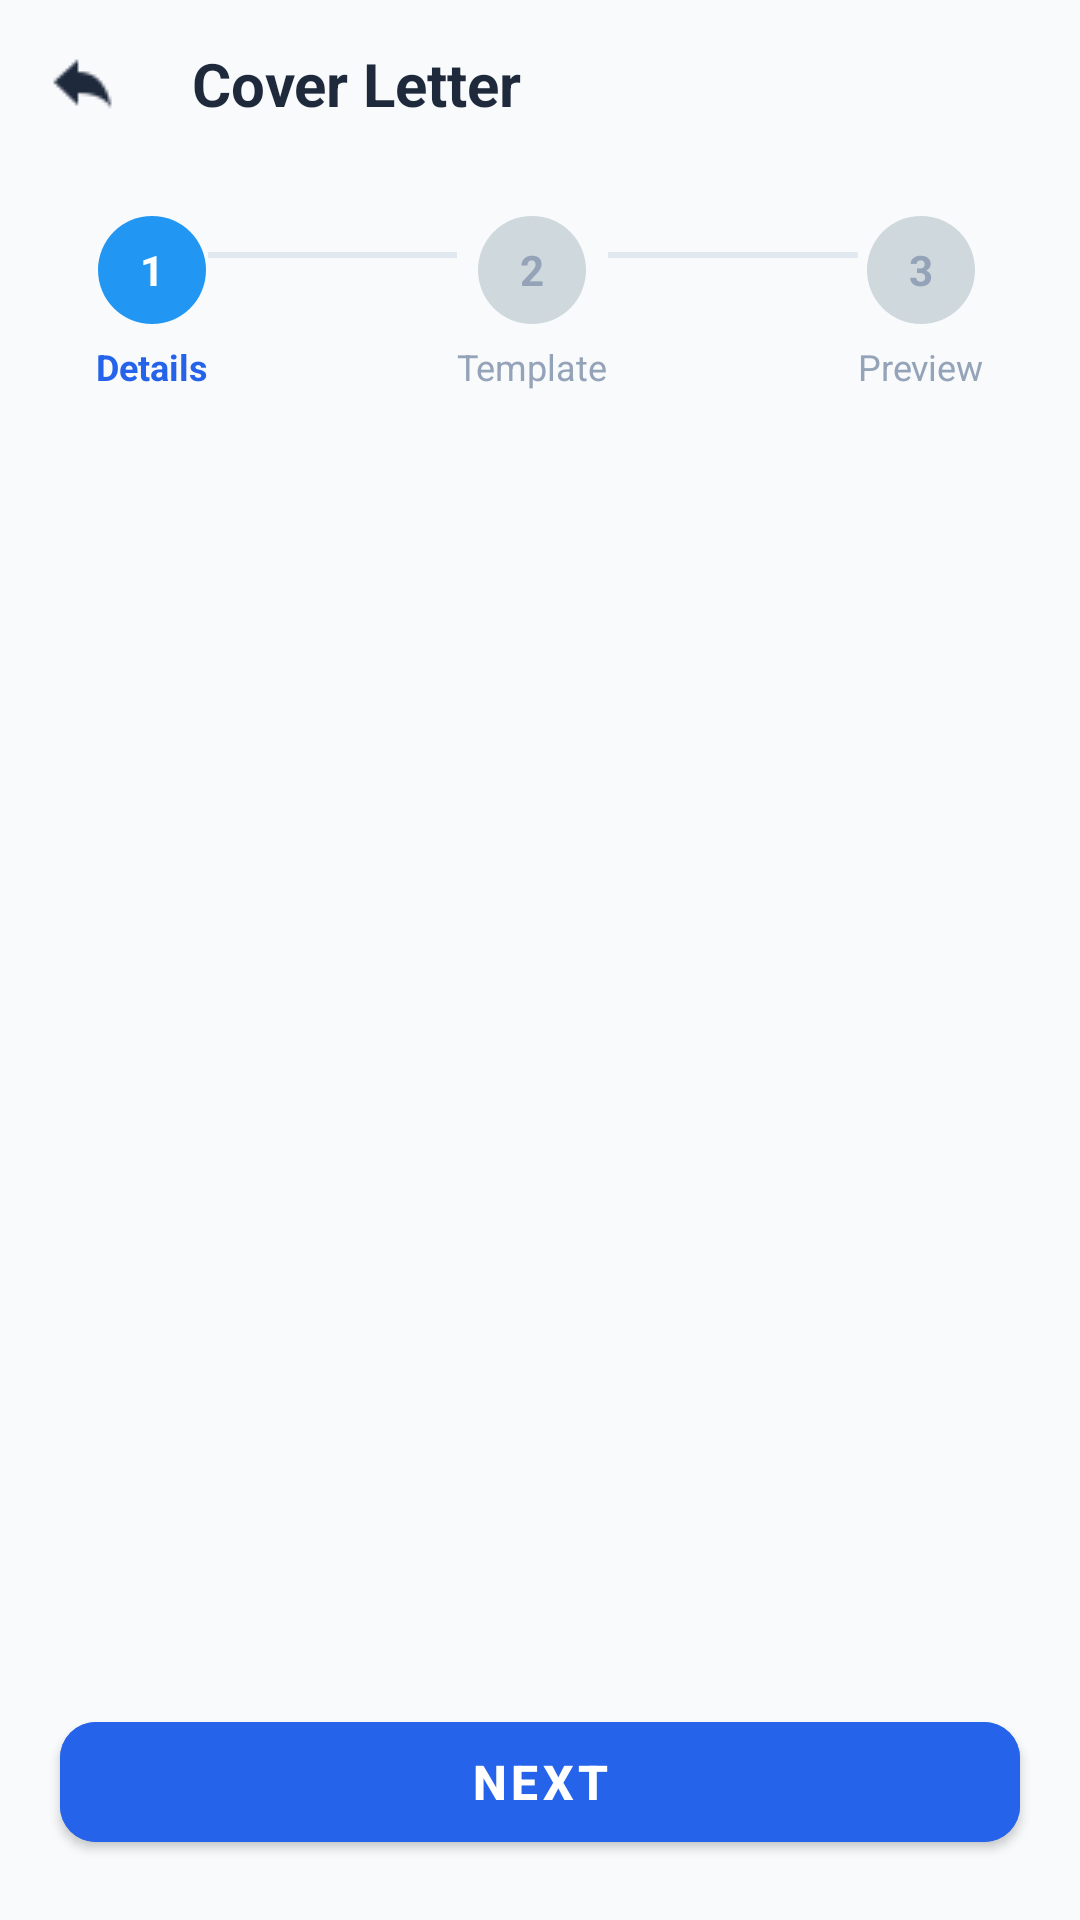

Icon bounding boxes for this 1080 x 1920 phone screenshot, format (x1=x1, y1=y1, x2=x2, y2=y2):
backarrow: (x1=53, y1=59, x2=112, y2=108)
